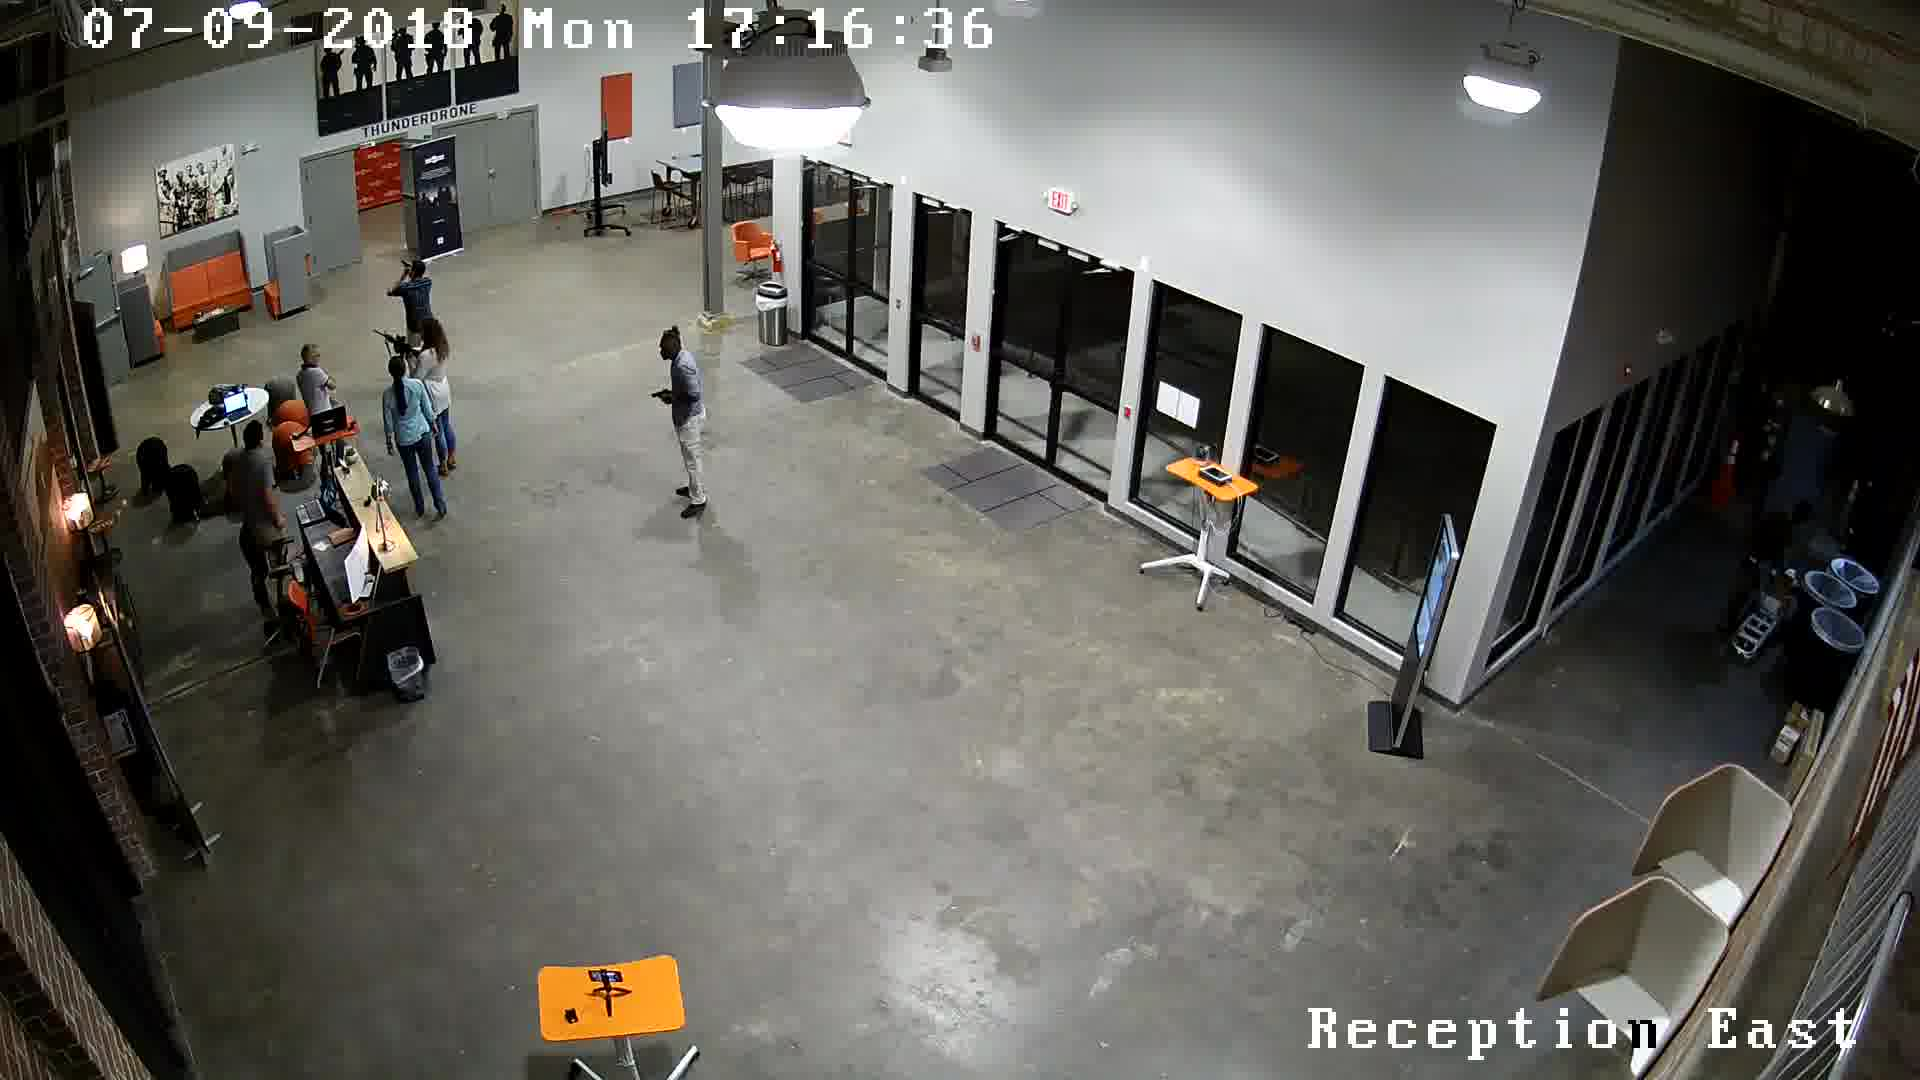pistol: (644, 381, 676, 411), (396, 256, 419, 285)
